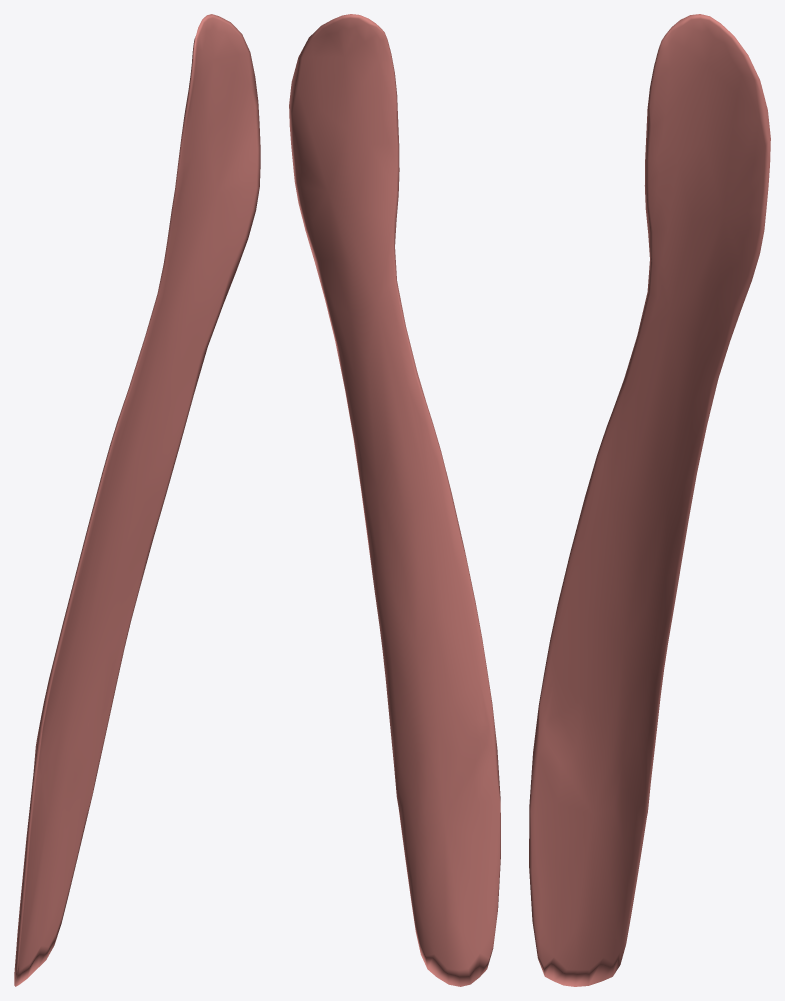
The picture shows the model from 3 angles, left to right: view 1: azimuth 30°, elevation 25°; view 2: azimuth 150°, elevation 25°; view 3: azimuth 330°, elevation 25°; orthographic projection. The views are drawn at different scales.
Visible parts, largest first — view 1: ZA_932dadc5fbad7908; view 2: ZA_932dadc5fbad7908; view 3: ZA_932dadc5fbad7908.
Part boxes in pixels (left/top/right/bottom): ZA_932dadc5fbad7908: left=14, top=14, right=260, bottom=986; ZA_932dadc5fbad7908: left=289, top=14, right=500, bottom=986; ZA_932dadc5fbad7908: left=529, top=14, right=770, bottom=986.
Bounding box in the file's own units: 0.0304 × 0.1212 × 0.0125.
